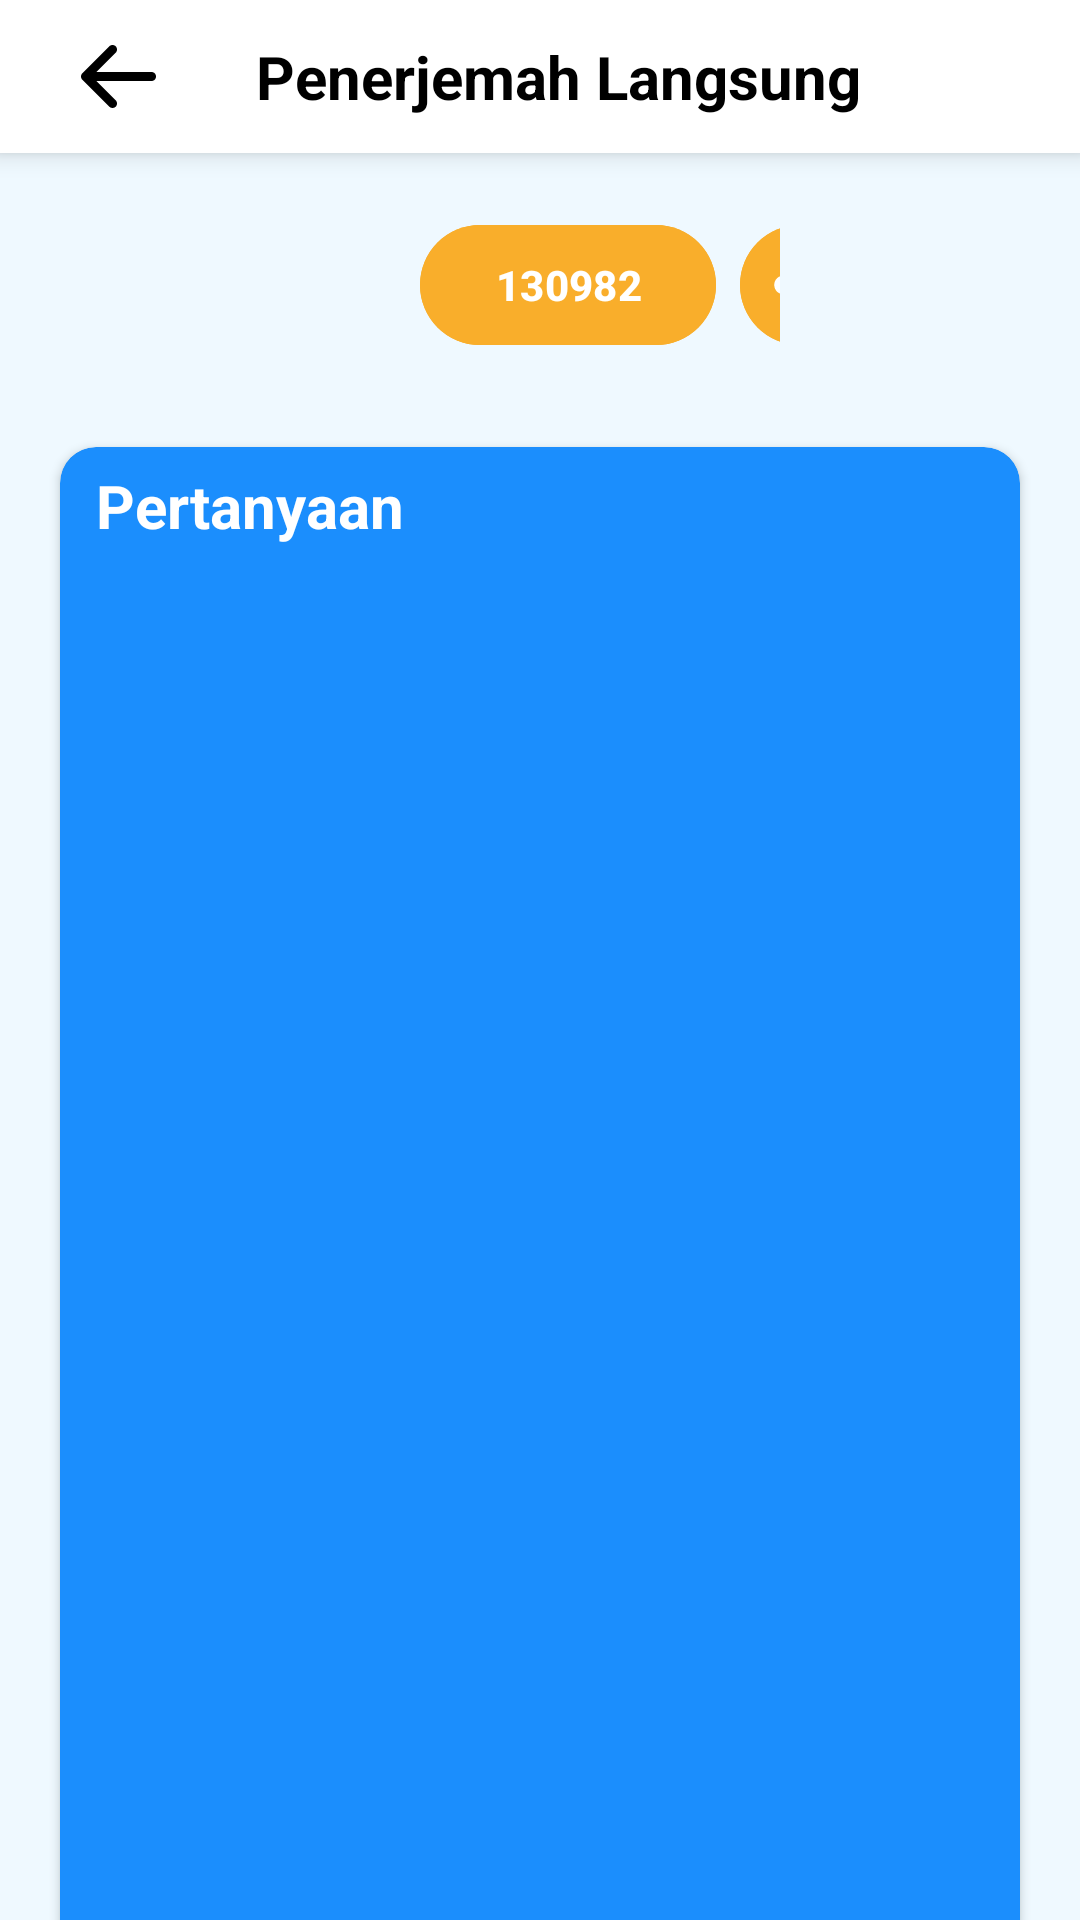

Icon bounding boxes for this 1080×1920 phone screenshot, format (x1, y1, x2, y2):
back: (81, 45, 156, 108)
